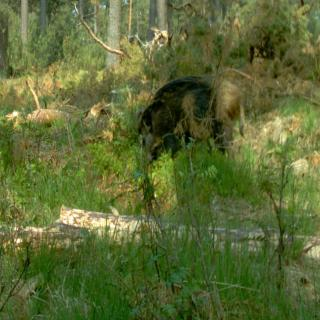Pig: (129, 69, 268, 167)
